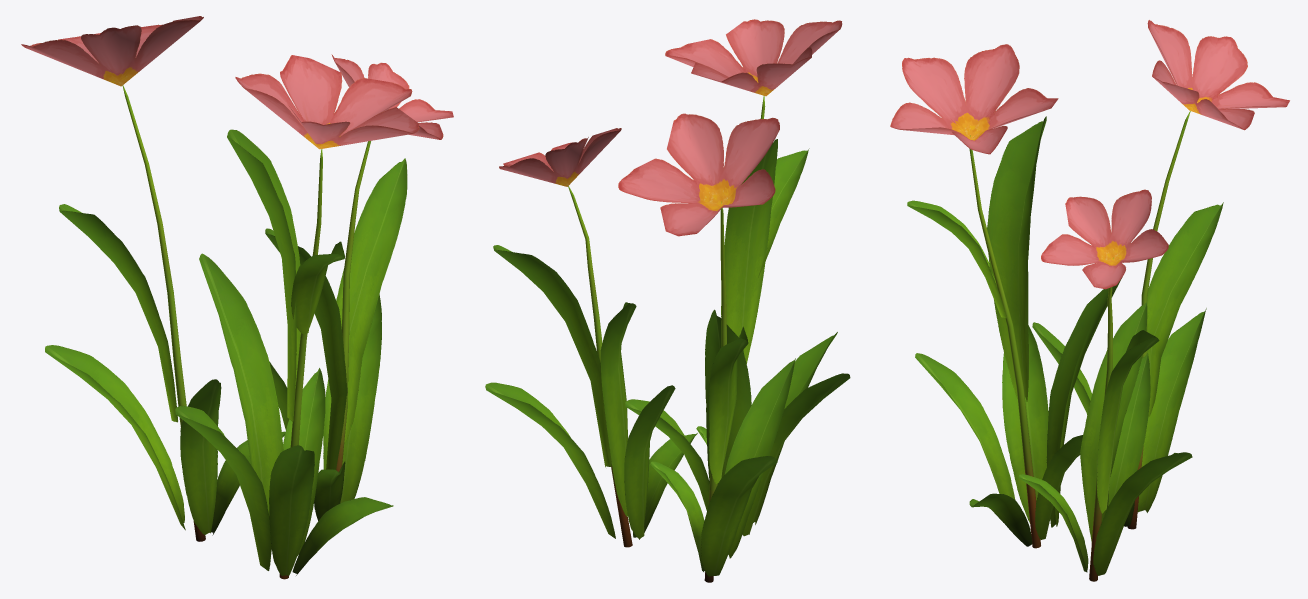
File: Flower_3_Group.glb
3 views of the same model, side by side, from view 1: azimuth 30°, elevation 25°; view 2: azimuth 150°, elevation 25°; view 3: azimuth 270°, elevation 25° (orthographic). The views are drawn at different scales.
Visible parts, largest first — view 1: Flower_3_Group; view 2: Flower_3_Group; view 3: Flower_3_Group.
Part boxes in pixels (x1=…): Flower_3_Group: x1=21, y1=16, x2=453, y2=579; Flower_3_Group: x1=485, y1=19, x2=850, y2=582; Flower_3_Group: x1=890, y1=20, x2=1289, y2=581.
Size of the model in its own units: 1.49 by 2.05 by 1.59.
2 materials, 2 textured.
